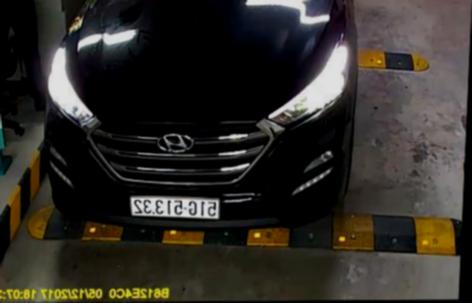License_Plate: (121, 190, 221, 224)
